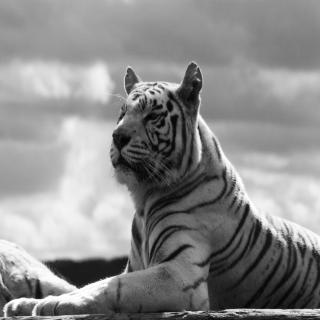Tiger: (3, 60, 320, 316)
